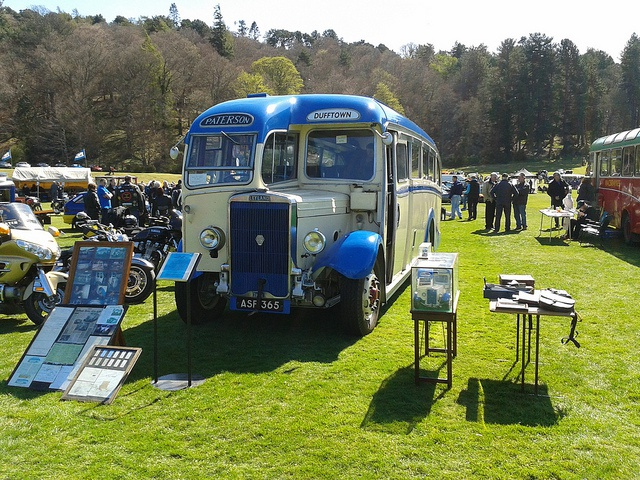non-vehicle: (0, 197, 68, 329), (128, 208, 181, 269), (124, 257, 154, 300)
